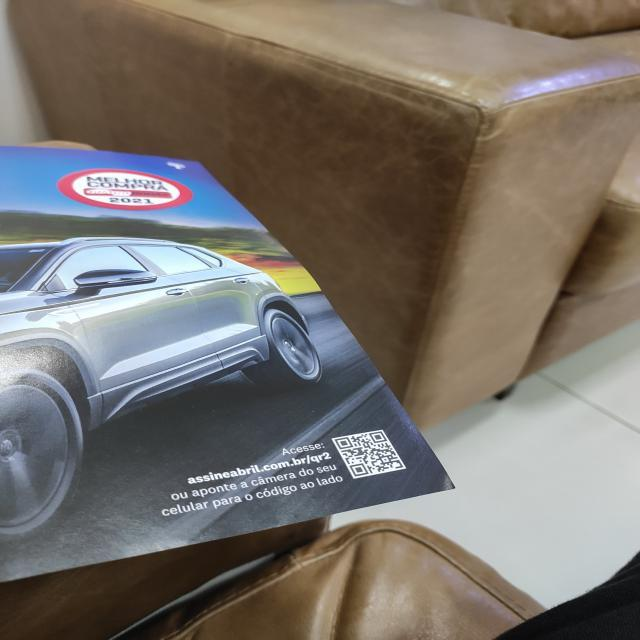qrcode: (336, 433, 405, 478)
